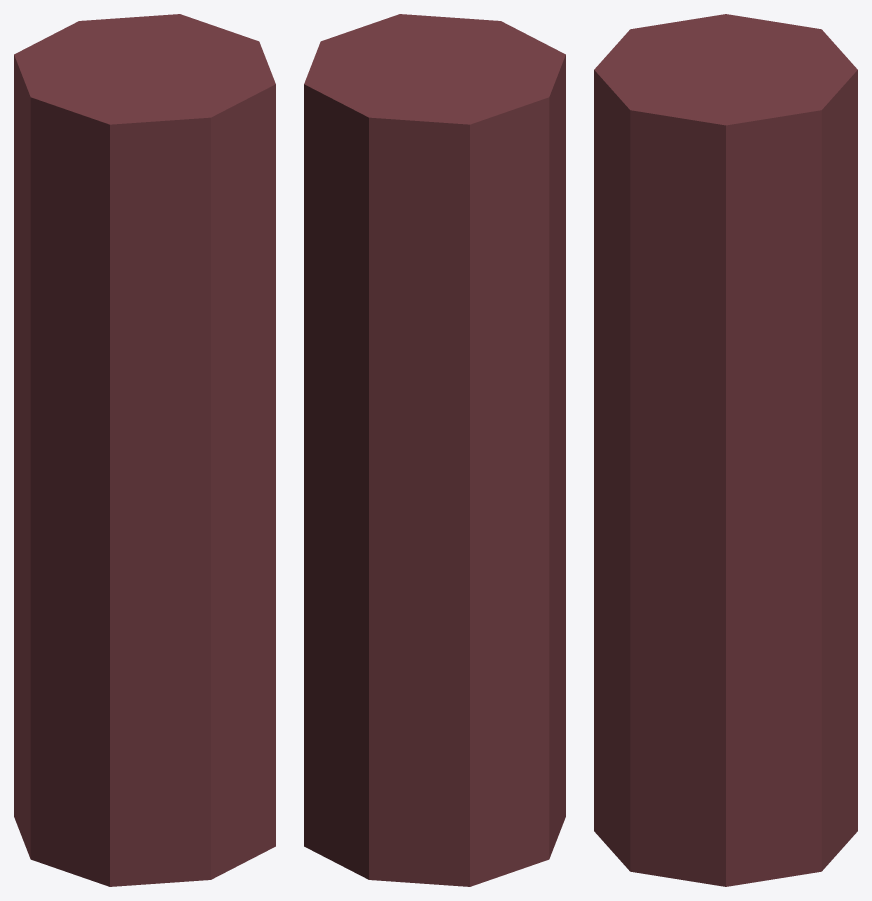
File: rod.obj
3 views of the same model, side by side, from view 1: azimuth 30°, elevation 25°; view 2: azimuth 150°, elevation 25°; view 3: azimuth 270°, elevation 25° (orthographic).
Parts seen in each view (by area): view 1: Cube; view 2: Cube; view 3: Cube.
Boxes of the visible parts, x1,y1,x2,y2 form: Cube: [14, 14, 275, 886]; Cube: [304, 14, 565, 886]; Cube: [594, 14, 857, 886].
Size of the model in its own units: 0.3139 by 1 by 0.3139.
1 material, 1 textured.
